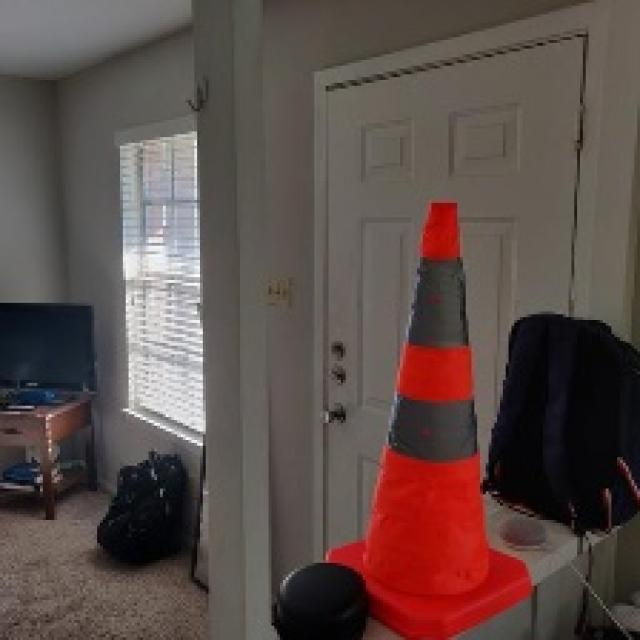cone: (320, 197, 532, 640)
